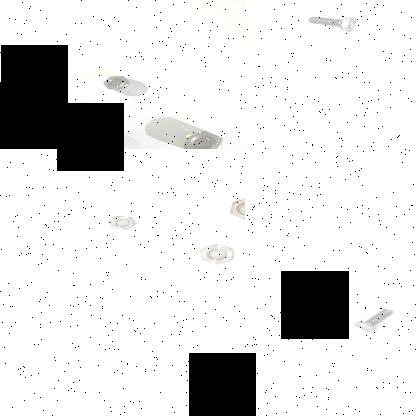Bolts: (352, 304, 398, 335), (307, 6, 360, 32)
NUTS: (180, 129, 227, 149), (80, 124, 122, 146), (197, 242, 239, 264), (100, 72, 132, 92), (106, 213, 138, 231), (226, 194, 245, 220)
